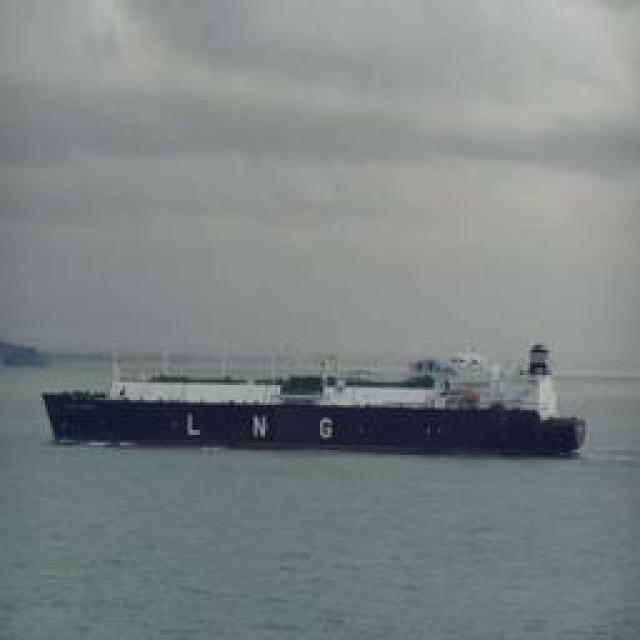Ship: (52, 369, 590, 452)
